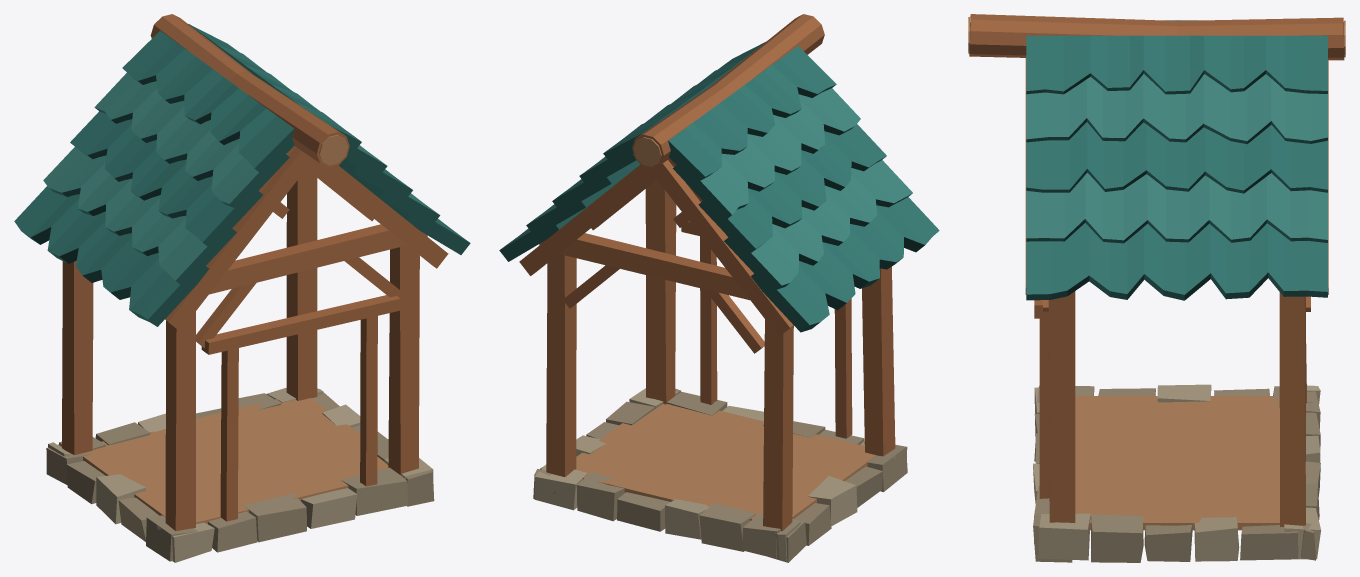
The model's file is roof.glb.
3 renders of one model, left to right at view 1: azimuth 30°, elevation 25°; view 2: azimuth 150°, elevation 25°; view 3: azimuth 270°, elevation 25°, orthographic. The views are drawn at different scales.
Visible parts, largest first — view 1: frame, roof_left, floor, roof_left_light, footing, roof_edges, footing_light, ridge_log, roof_right, ridge_log_ends; view 2: frame, roof_left, floor, roof_left_light, footing, roof_edges, footing_light, ridge_log, roof_right, ridge_log_ends; view 3: roof_right, roof_right_light, floor, frame, footing, ridge_log, roof_edges, footing_light.
Boxes of the visible parts, x1,y1,x2,y2 form: frame: (62,146,448,530); roof_left: (14,30,293,319); floor: (80,398,388,524); roof_left_light: (43,73,258,280); footing: (46,389,434,561); roof_edges: (23,24,470,326); footing_light: (48,387,433,562); ridge_log: (150,14,349,167); roof_right: (189,24,468,241); ridge_log_ends: (319,134,347,165); frame: (519,158,895,531); roof_left: (668,46,939,324); floor: (576,404,876,520); roof_left_light: (700,88,912,285); footing: (533,388,907,562); roof_edges: (499,55,924,332); footing_light: (534,388,907,561); ridge_log: (632,14,824,168); roof_right: (501,42,765,248); ridge_log_ends: (633,137,661,166); roof_right: (1026,35,1327,294); roof_right_light: (1026,74,1327,240); floor: (1075,396,1279,530); frame: (1025,57,1328,526); footing: (1033,385,1320,562); ridge_log: (969,14,1344,60); roof_edges: (1026,20,1327,300); footing_light: (1033,384,1320,561).
Size of the model in its own units: 3.15 by 3.9 by 2.81.
